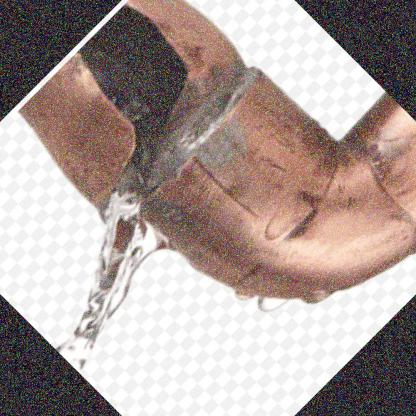burst: (39, 7, 221, 209)
